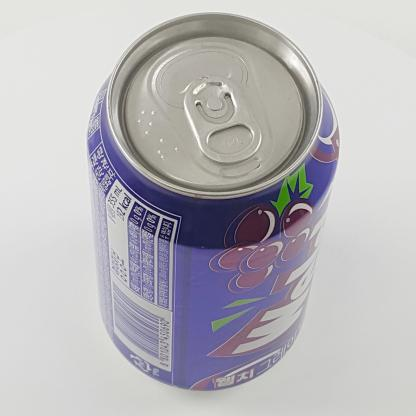alumunium_can: (83, 8, 344, 416)
